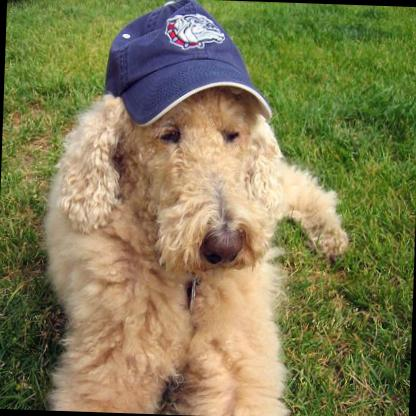standard_poodle: (34, 0, 354, 416)
